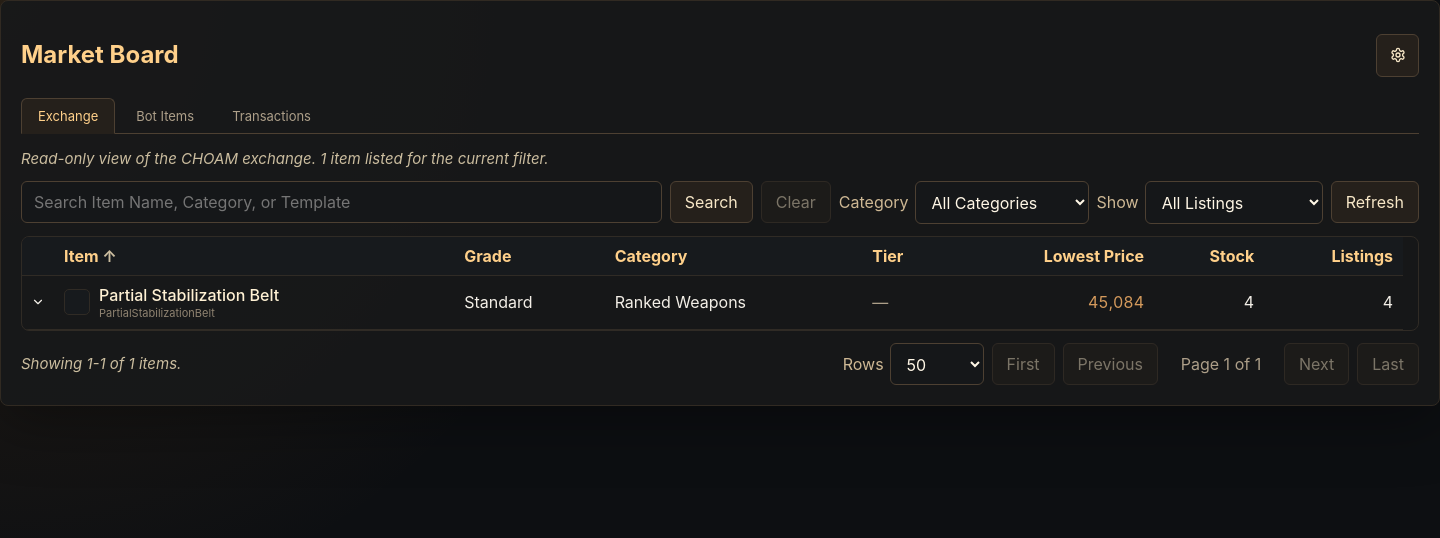
it: ExchangePanel › loads listings on demand when a row is expanded
Click the button named "Show listings for Partial Stabilization Belt": (38, 302) [26,290,50,314]
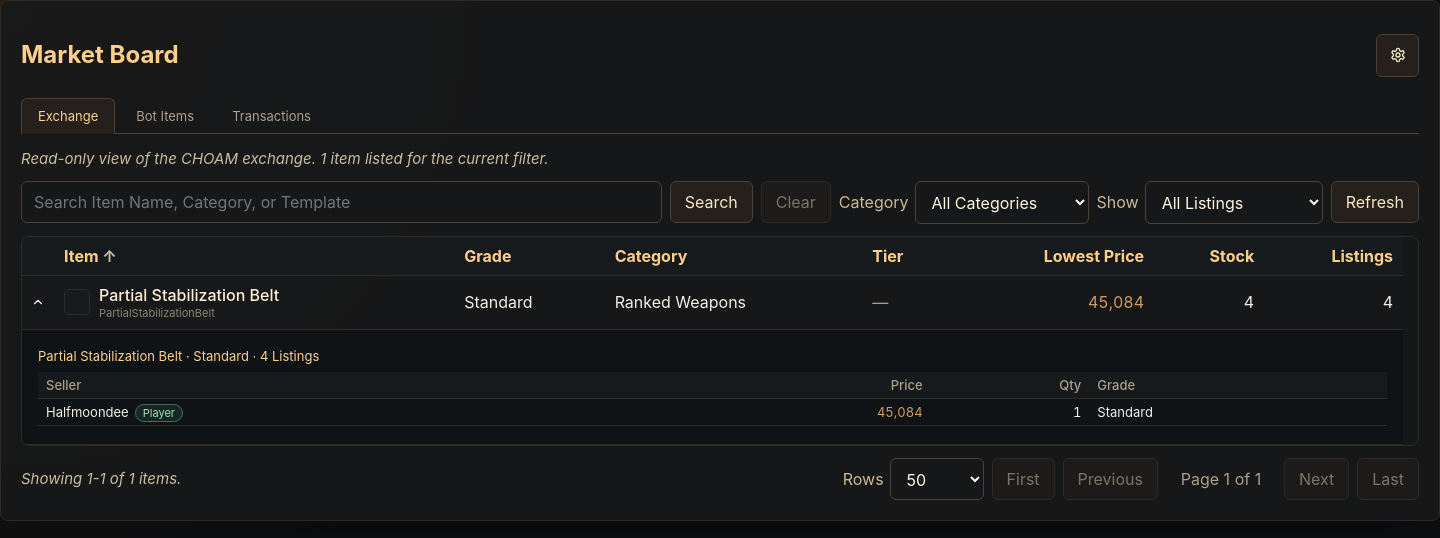
expect the text "Halfmoondee" is shown: met, box [46,404,129,420]
expect the text "Player" is shown: met, box [135,404,183,422]
